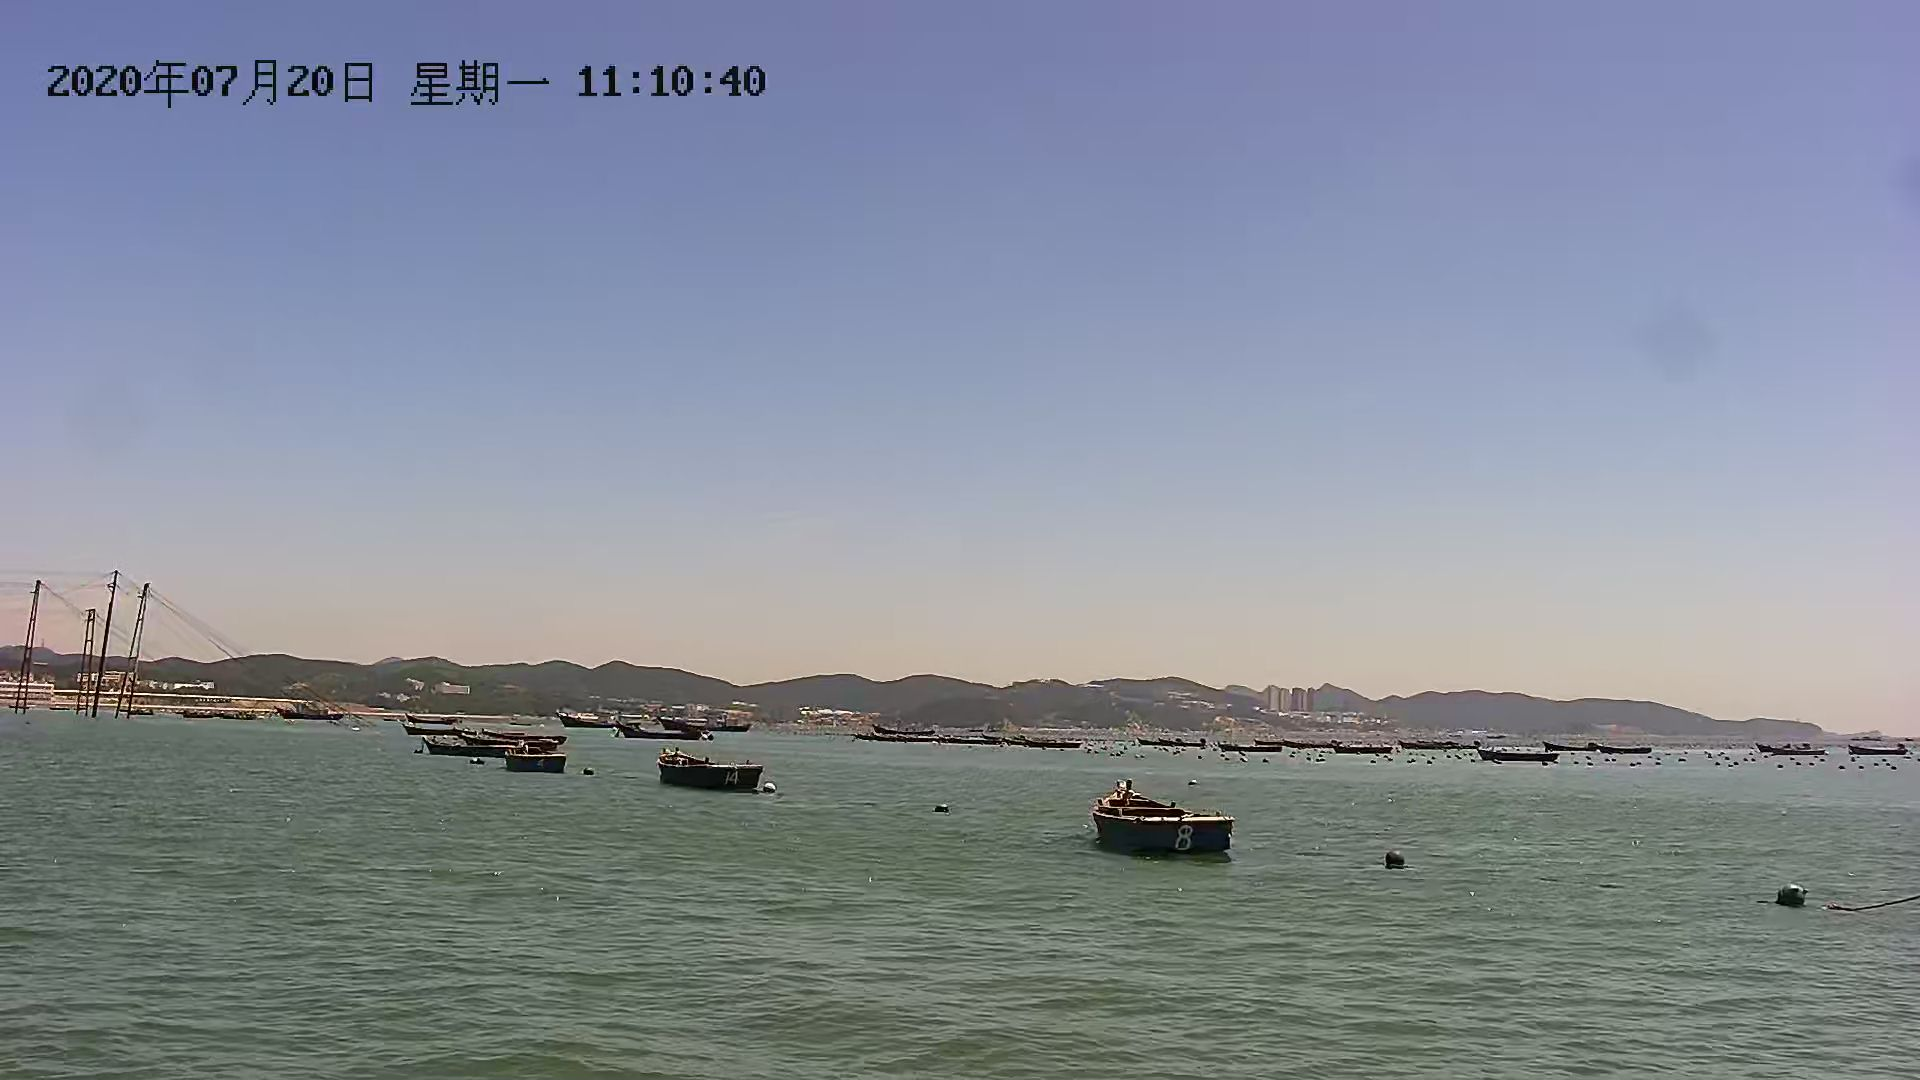ball: (1774, 880, 1811, 913), (1375, 851, 1411, 872), (936, 799, 951, 814)
boat: (1091, 777, 1247, 857), (647, 742, 775, 796), (404, 731, 547, 756), (612, 717, 721, 742), (485, 749, 568, 778)
